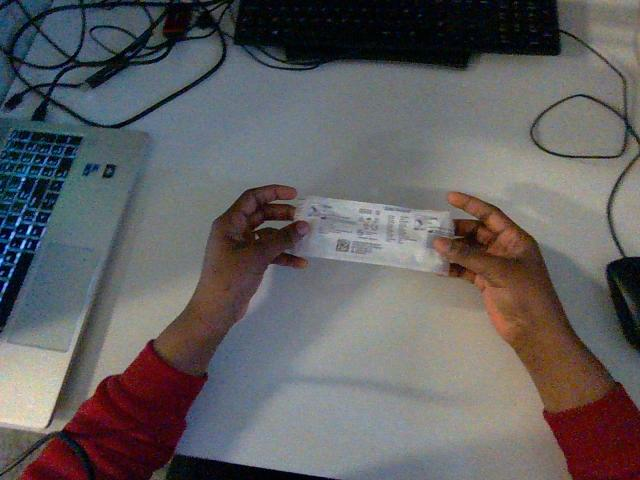syringe: (292, 196, 452, 273)
